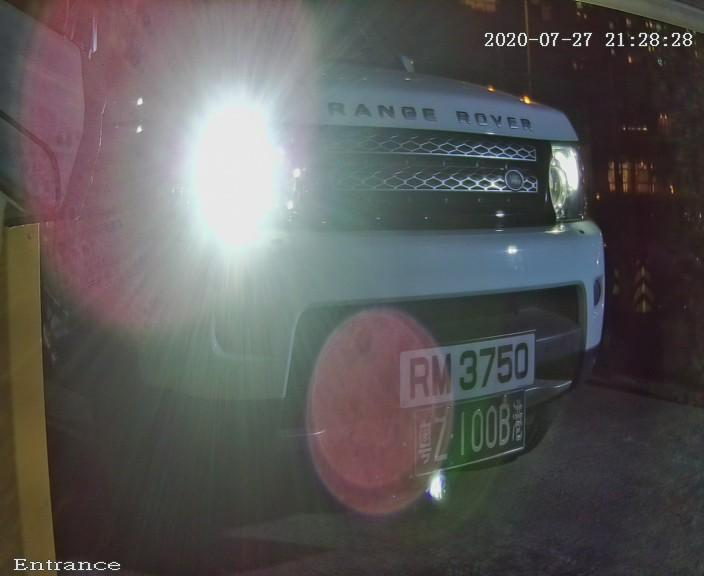privatecar: (92, 13, 635, 538)
